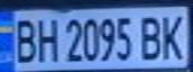0: (81, 15, 100, 62)
2: (60, 15, 84, 63)
5: (115, 12, 139, 61)
9: (97, 14, 118, 62)
B: (136, 11, 166, 61), (9, 15, 39, 64)
H: (33, 14, 60, 63)
K: (157, 10, 190, 61)
